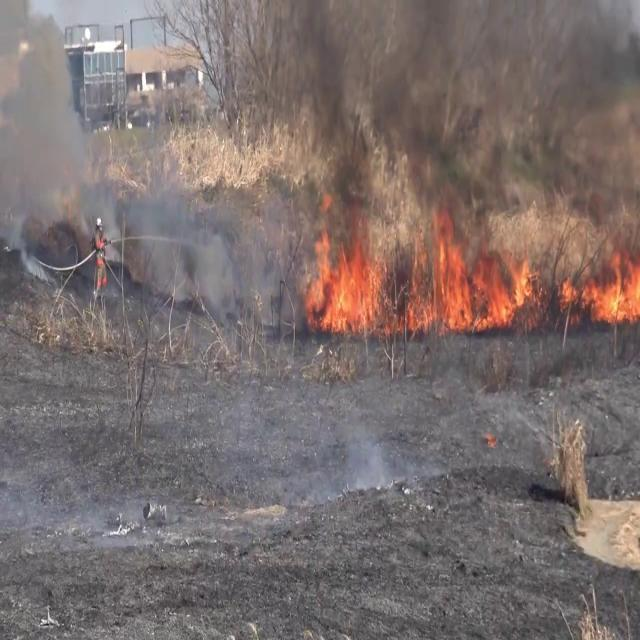Fire: (411, 217, 539, 334), (299, 214, 391, 338), (573, 241, 640, 327)
Smoke: (266, 0, 640, 230), (0, 1, 108, 298), (140, 170, 288, 340)
